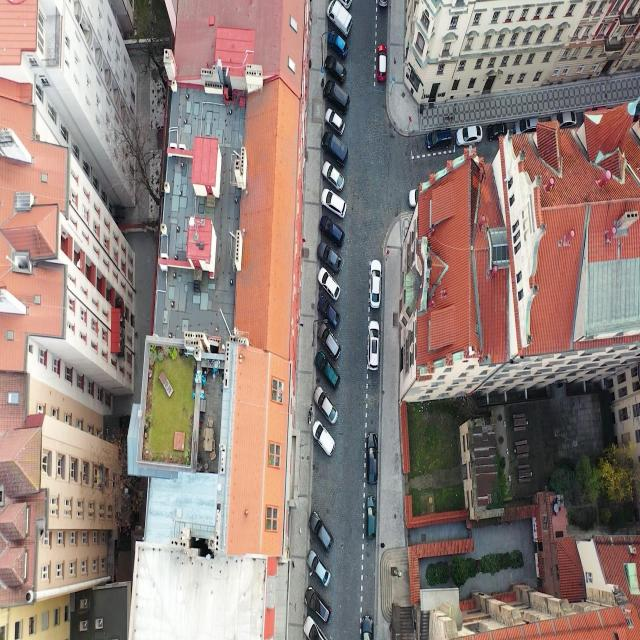Car: (364, 318, 385, 372), (304, 585, 330, 625), (310, 510, 334, 553), (326, 0, 353, 38), (307, 549, 331, 588), (324, 78, 350, 114), (314, 387, 338, 425), (315, 352, 339, 389), (322, 132, 348, 166), (312, 420, 336, 456), (317, 324, 341, 358), (318, 214, 344, 245), (318, 265, 341, 300), (320, 188, 346, 218), (317, 240, 342, 271), (318, 298, 341, 330), (322, 160, 346, 190), (324, 54, 347, 85), (327, 30, 349, 60), (369, 260, 382, 308), (455, 125, 483, 147), (324, 108, 346, 136), (366, 432, 378, 480), (426, 128, 452, 150), (487, 122, 513, 142), (366, 494, 377, 540), (376, 44, 387, 83), (360, 614, 374, 640), (558, 110, 578, 128), (520, 117, 540, 134), (219, 444, 226, 472), (409, 188, 418, 208), (337, 0, 352, 10), (378, 0, 388, 9), (428, 101, 436, 110)
